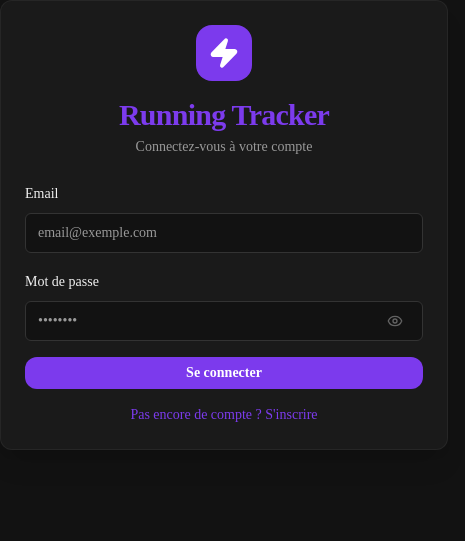
Test: LoginCard › inline error handling › shows form error on invalid credentials
Type "test@example.com" into the field with test id "login-email" at (224,233), box [25, 213, 423, 253]
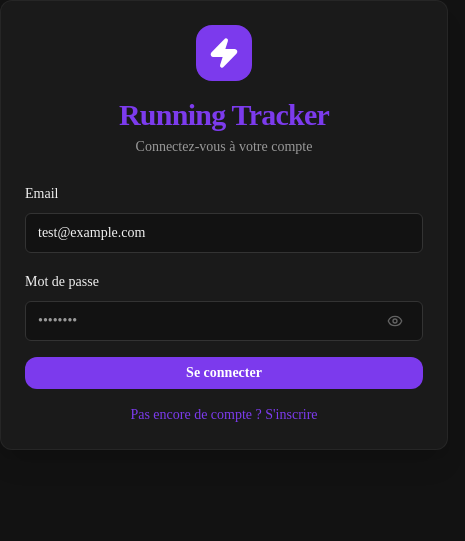
Type "wrongpassword" into the password field with test id "login-password" at (224,321), box [25, 301, 423, 341]
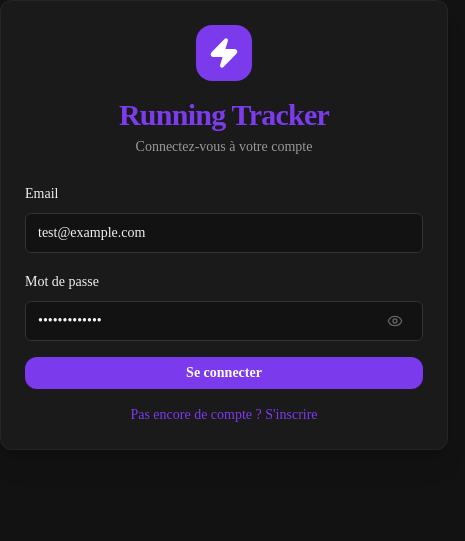
Click the button with test id "login-submit" at (224,373), box [25, 357, 423, 389]
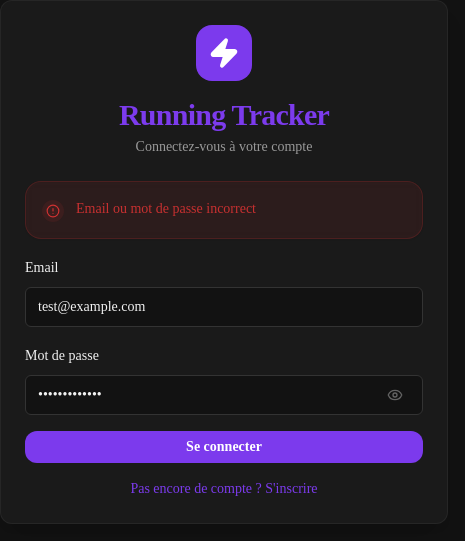
Expected: the text "Email ou mot de passe incorrect" is shown, [76, 201, 256, 216]
